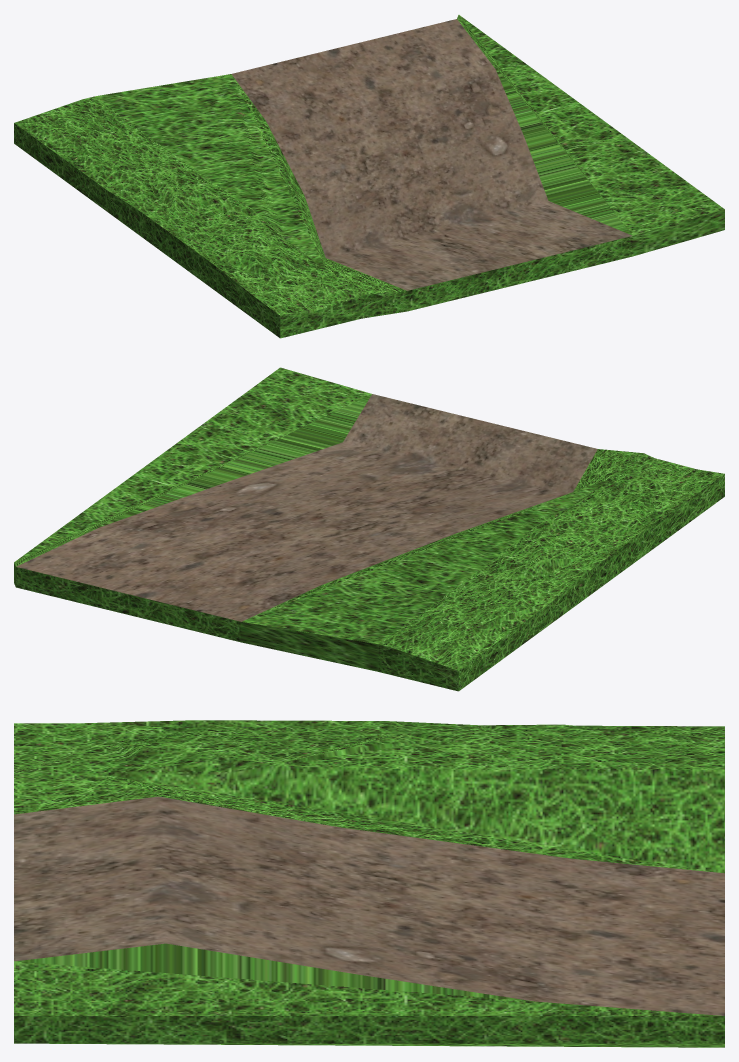
File: ground3.fbx
The picture shows the model from 3 angles, top to bottom: view 1: azimuth 30°, elevation 25°; view 2: azimuth 150°, elevation 25°; view 3: azimuth 270°, elevation 25°; orthographic projection. The views are drawn at different scales.
Visible parts, largest first — view 1: pCube1; view 2: pCube1; view 3: pCube1.
Part boxes in pixels (x1,y1,x2,y2): pCube1: (14, 15, 724, 338); pCube1: (14, 367, 724, 691); pCube1: (14, 720, 724, 1047).
Bounding box in the file's own units: 22.57 × 1.85 × 23.41.
Materials: 2 (2 with a texture image).
